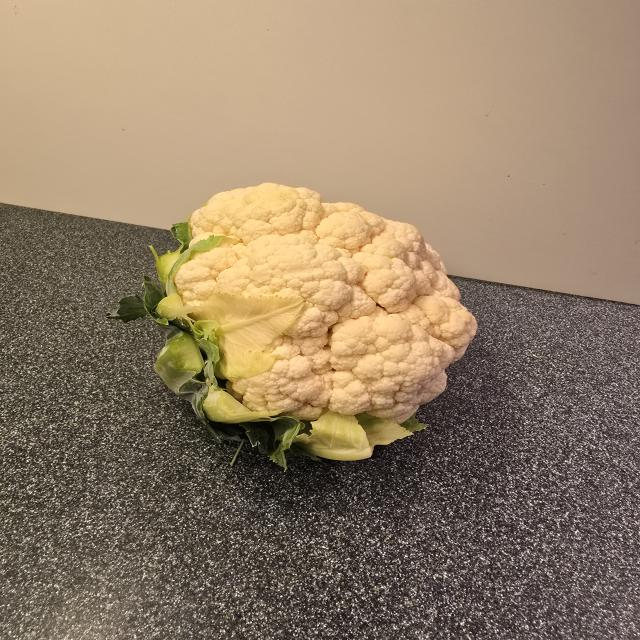Cauliflower: (131, 175, 492, 472)
